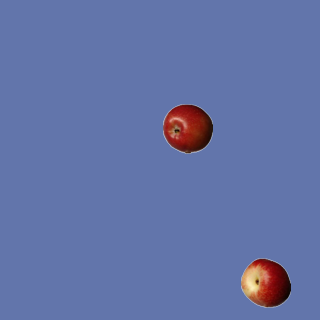Apple Braeburn: (162, 103, 212, 153)
Nectarine: (240, 257, 290, 307)
